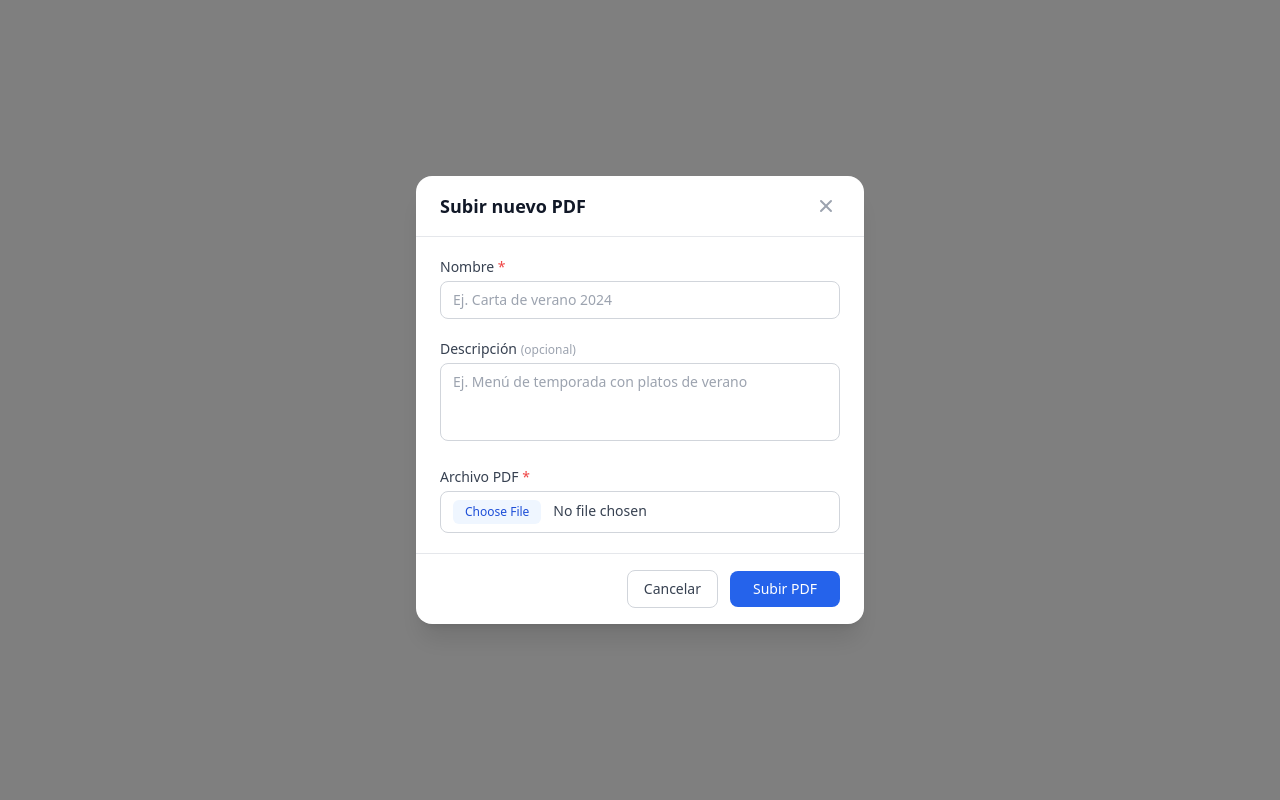
Test: UploadModal — errores de validación al enviar › muestra error de archivo cuando se envía el formulario sin archivo
The image size is (1280, 800).
Rellenar solo el nombre
In the field labelled "Nombre *": (640, 300) [440,281,840,319], type "Carta de verano"
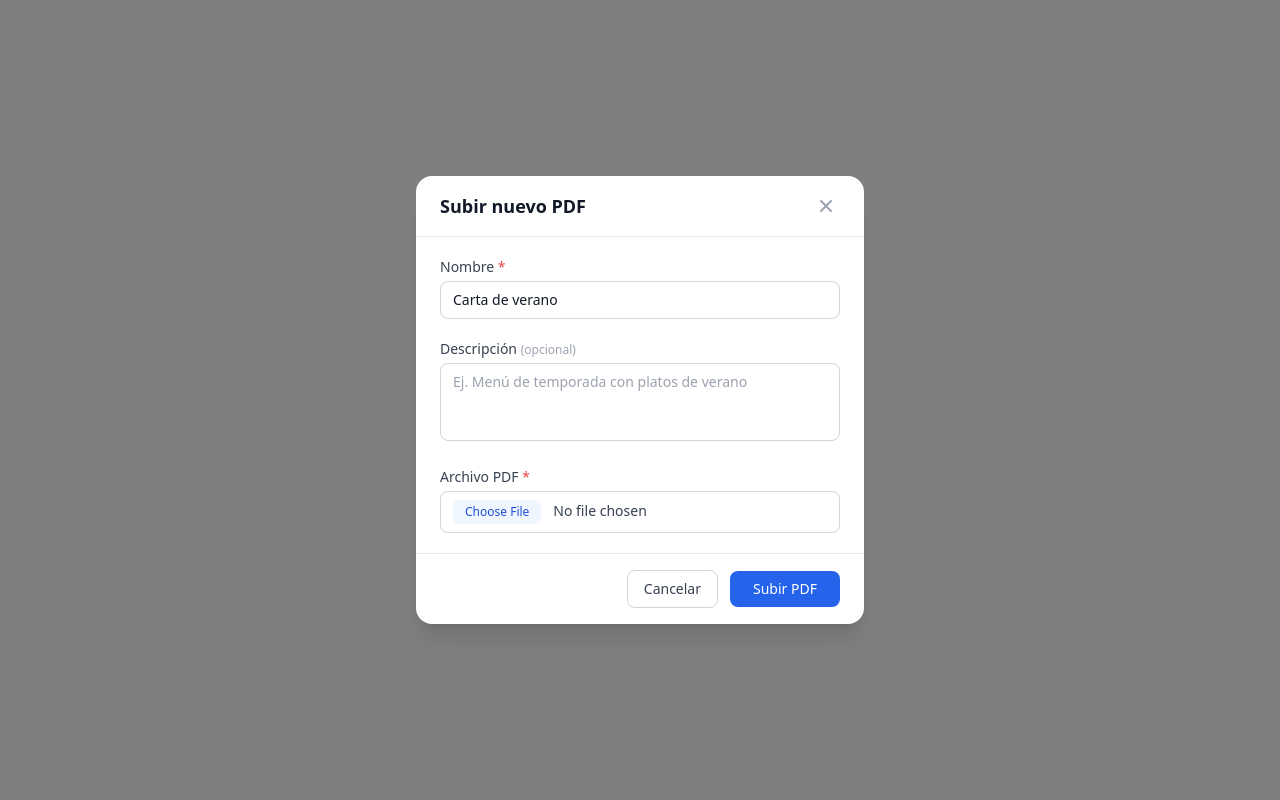
Click the button "Subir PDF": (785, 589) [730,571,840,607]
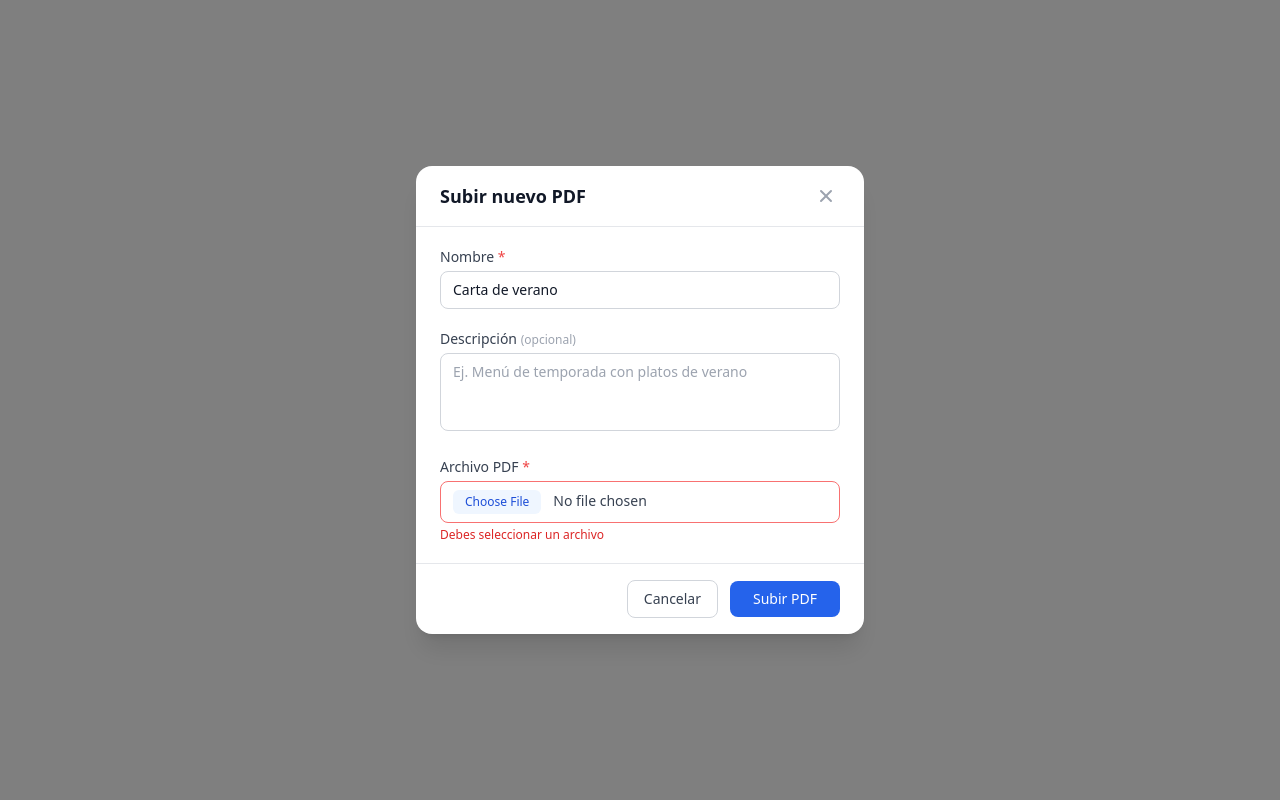
expect the text "Debes seleccionar un archivo" is shown: met, box [440,526,604,543]
